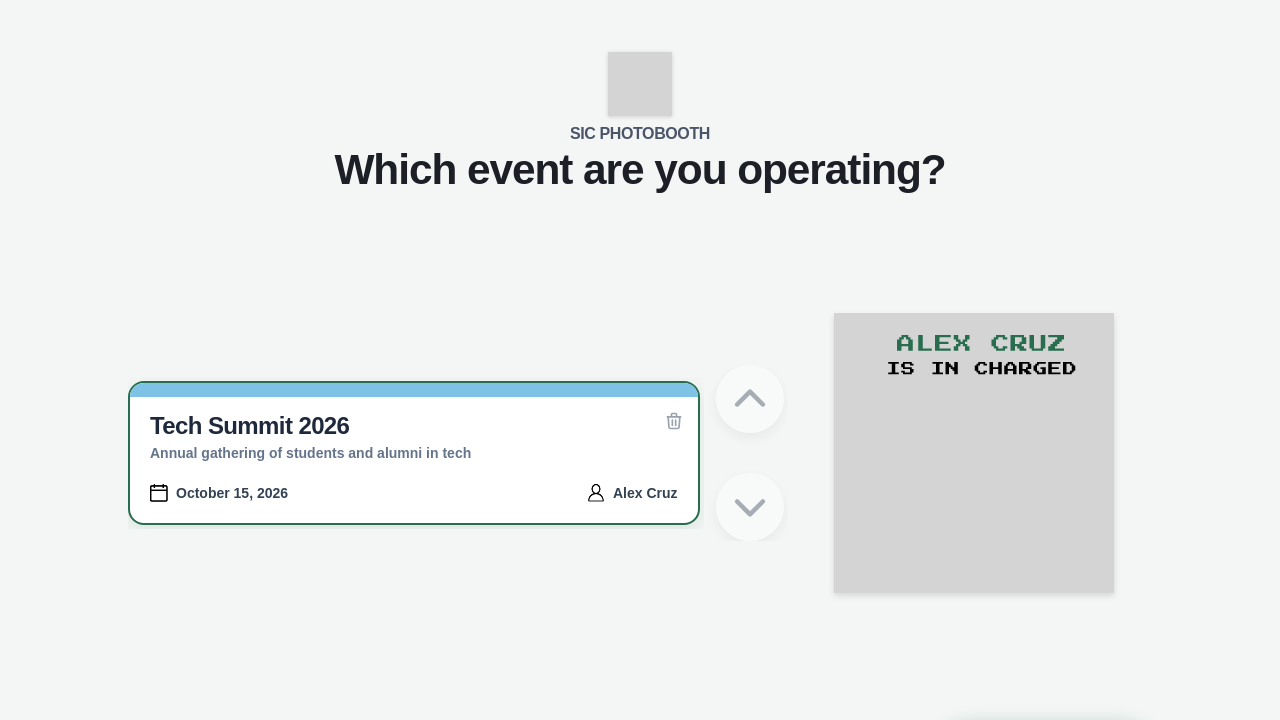
Test case: EventSelectScreen › opens delete confirmation modal and cancels deletion
Expected: the heading "Tech Summit 2026" is shown, [150,412,349,438]
Click delete button
Click the button named "delete event tech summit 2026".
click(674, 420)  # box [660,406,688,434]
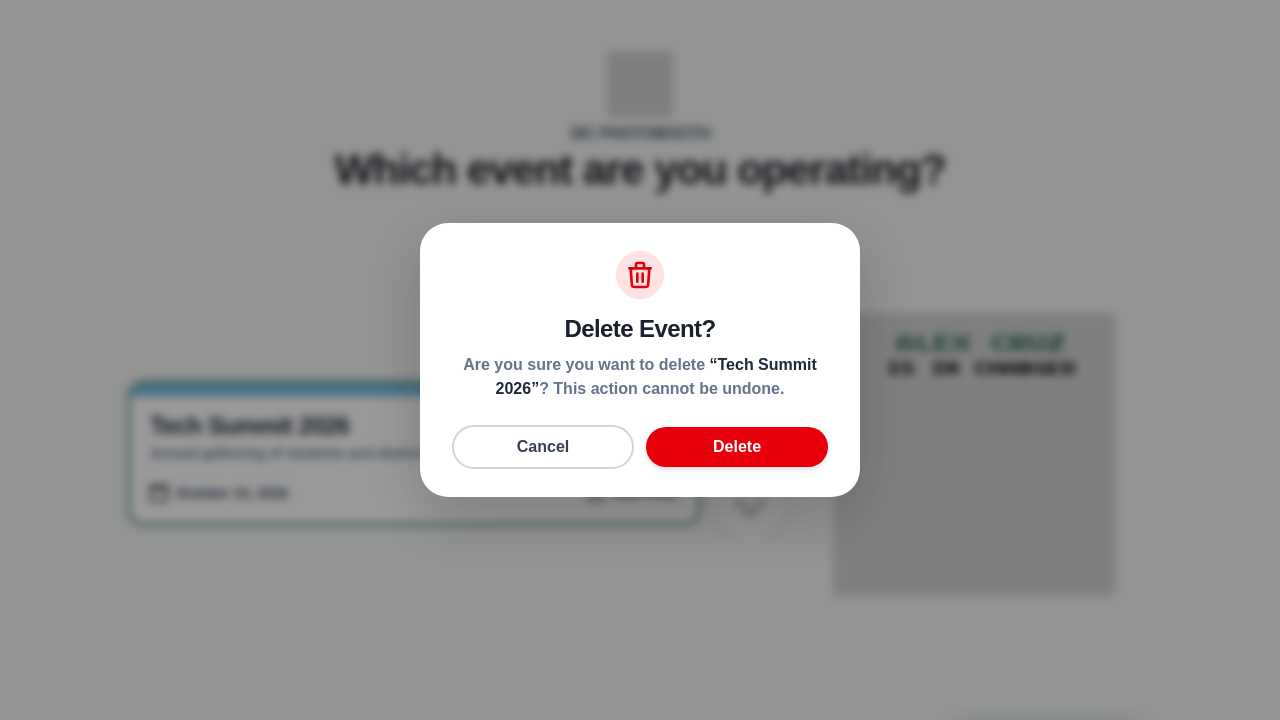
Expected: the heading "Delete Event?" is shown, [564,315,715,342]
Click Cancel button
Click the button "Cancel".
click(543, 447)  # box [452,425,634,469]
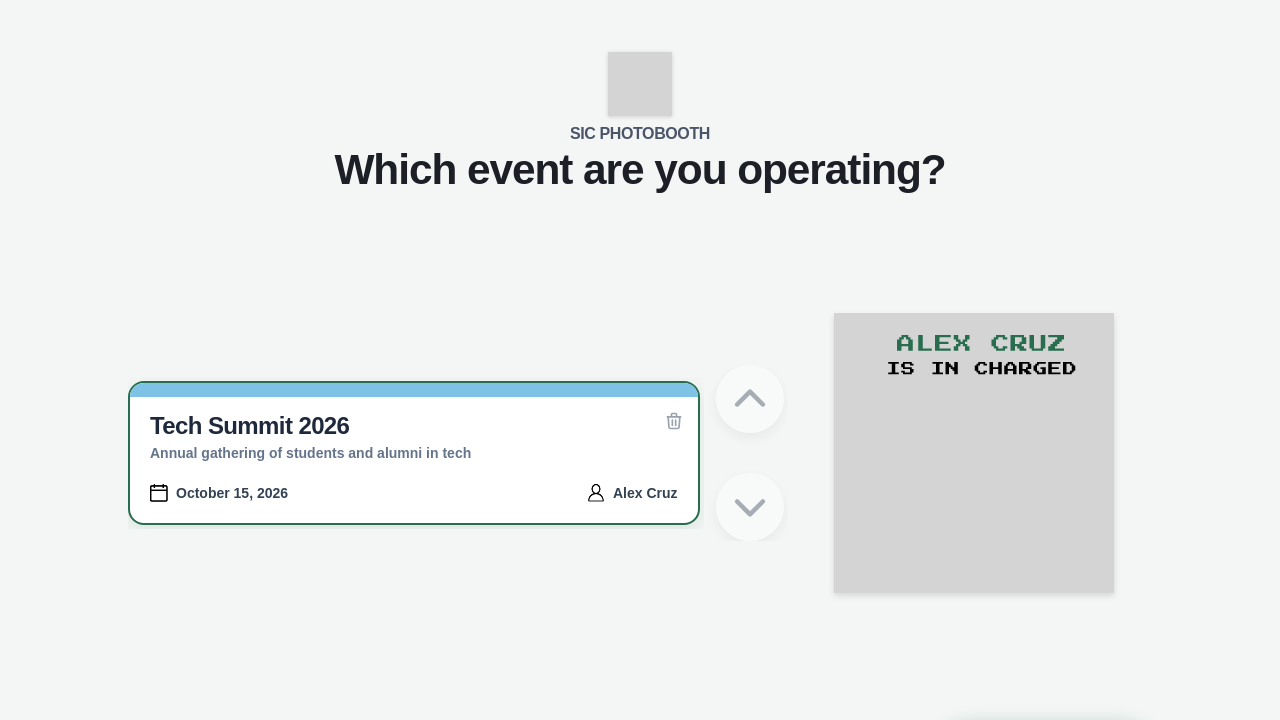
Expected: the heading "Tech Summit 2026" is shown, [150,412,349,438]
Expected: the heading "Delete Event?" is gone
